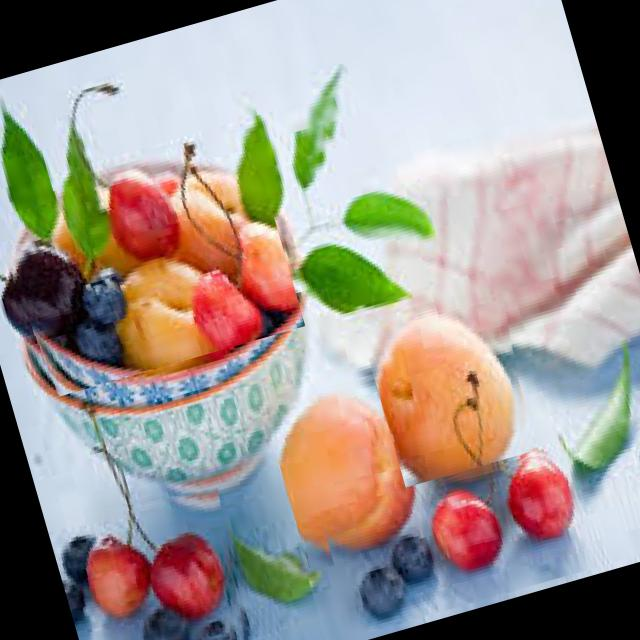Organic: (0, 127, 305, 401), (318, 442, 596, 636), (45, 472, 268, 640), (360, 287, 546, 487), (261, 364, 431, 572)
